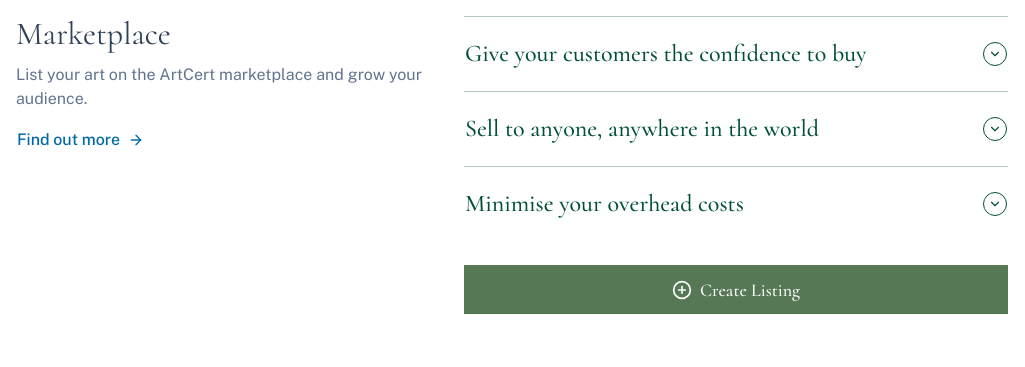
it: ManageMarketplaceCard › Not Listed View › renders collapsible rows and toggles on click
Check: the text "Give your customers the confidence to buy" is shown, box [465,38,866,70]
Check: the text "Sell to anyone, anywhere in the world" is shown, box [465,113,819,145]
What coordinates should you click on to do the following:
click the button "Give your customers the confidence to buy"
I would click on:
 (736, 54)
Its box is [464,37,1008,71].
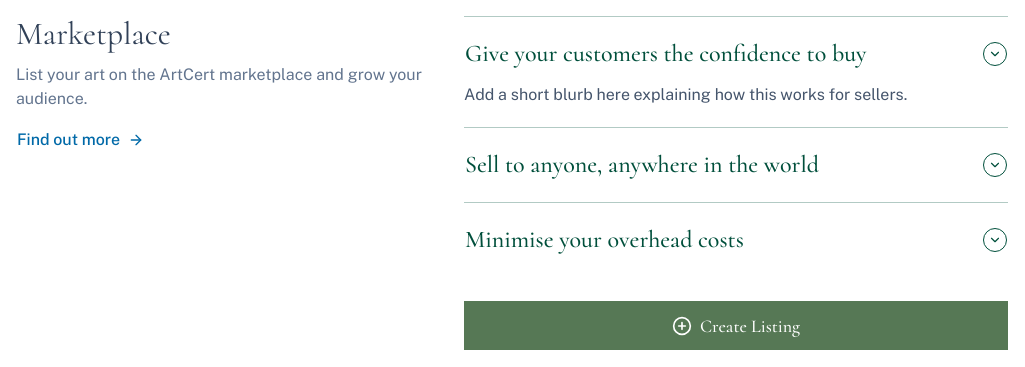
Check: the text "Add a short blurb here" is shown, box [464,85,907,104]
